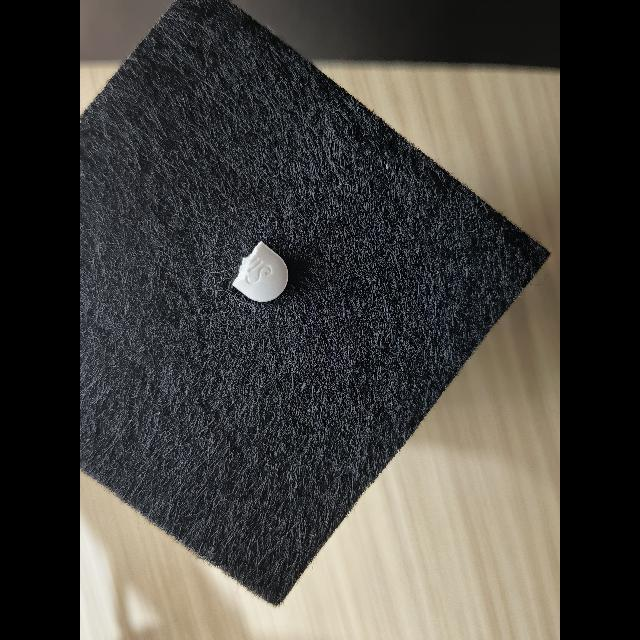Chipped Pill: (232, 241, 288, 302)
